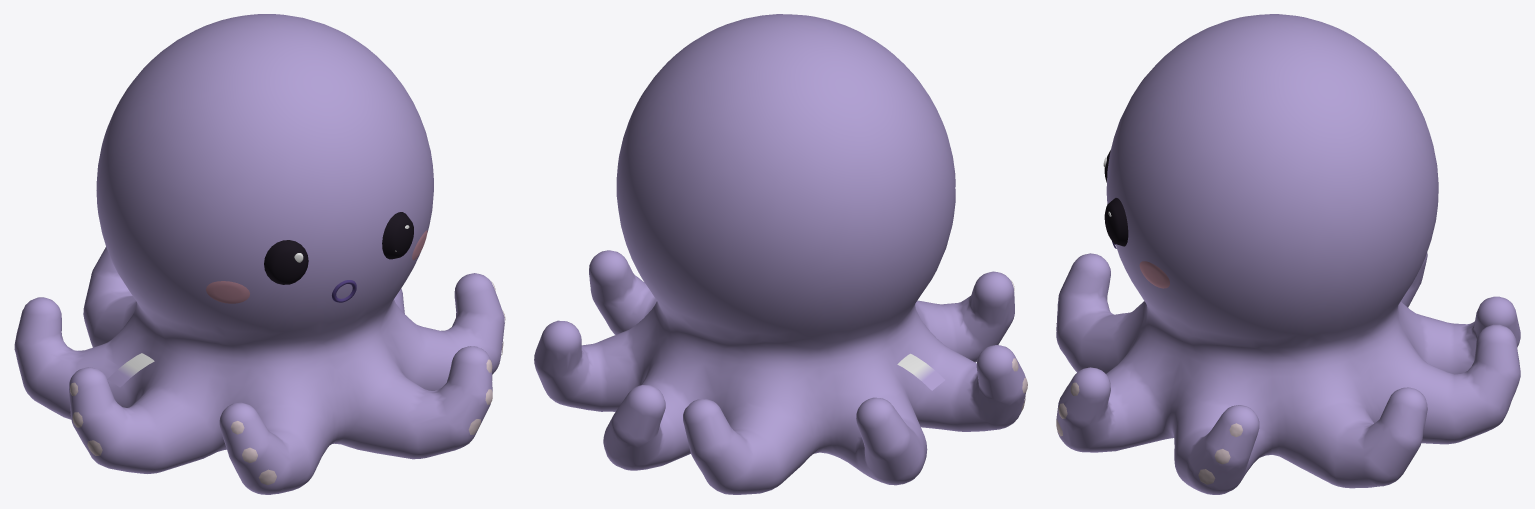
The model's file is octopus.glb.
3 renders of one model, left to right at view 1: azimuth 30°, elevation 25°; view 2: azimuth 150°, elevation 25°; view 3: azimuth 270°, elevation 25°, orthographic.
Parts seen in each view (by area): view 1: LOD0; view 2: LOD0; view 3: LOD0.
Boxes of the visible parts, x1,y1,x2,y2 form: LOD0: [14, 14, 505, 494]; LOD0: [534, 14, 1027, 494]; LOD0: [1056, 14, 1520, 494].
Size of what is drawn, in the model's own units: 0.2079 by 0.1792 by 0.1941.
